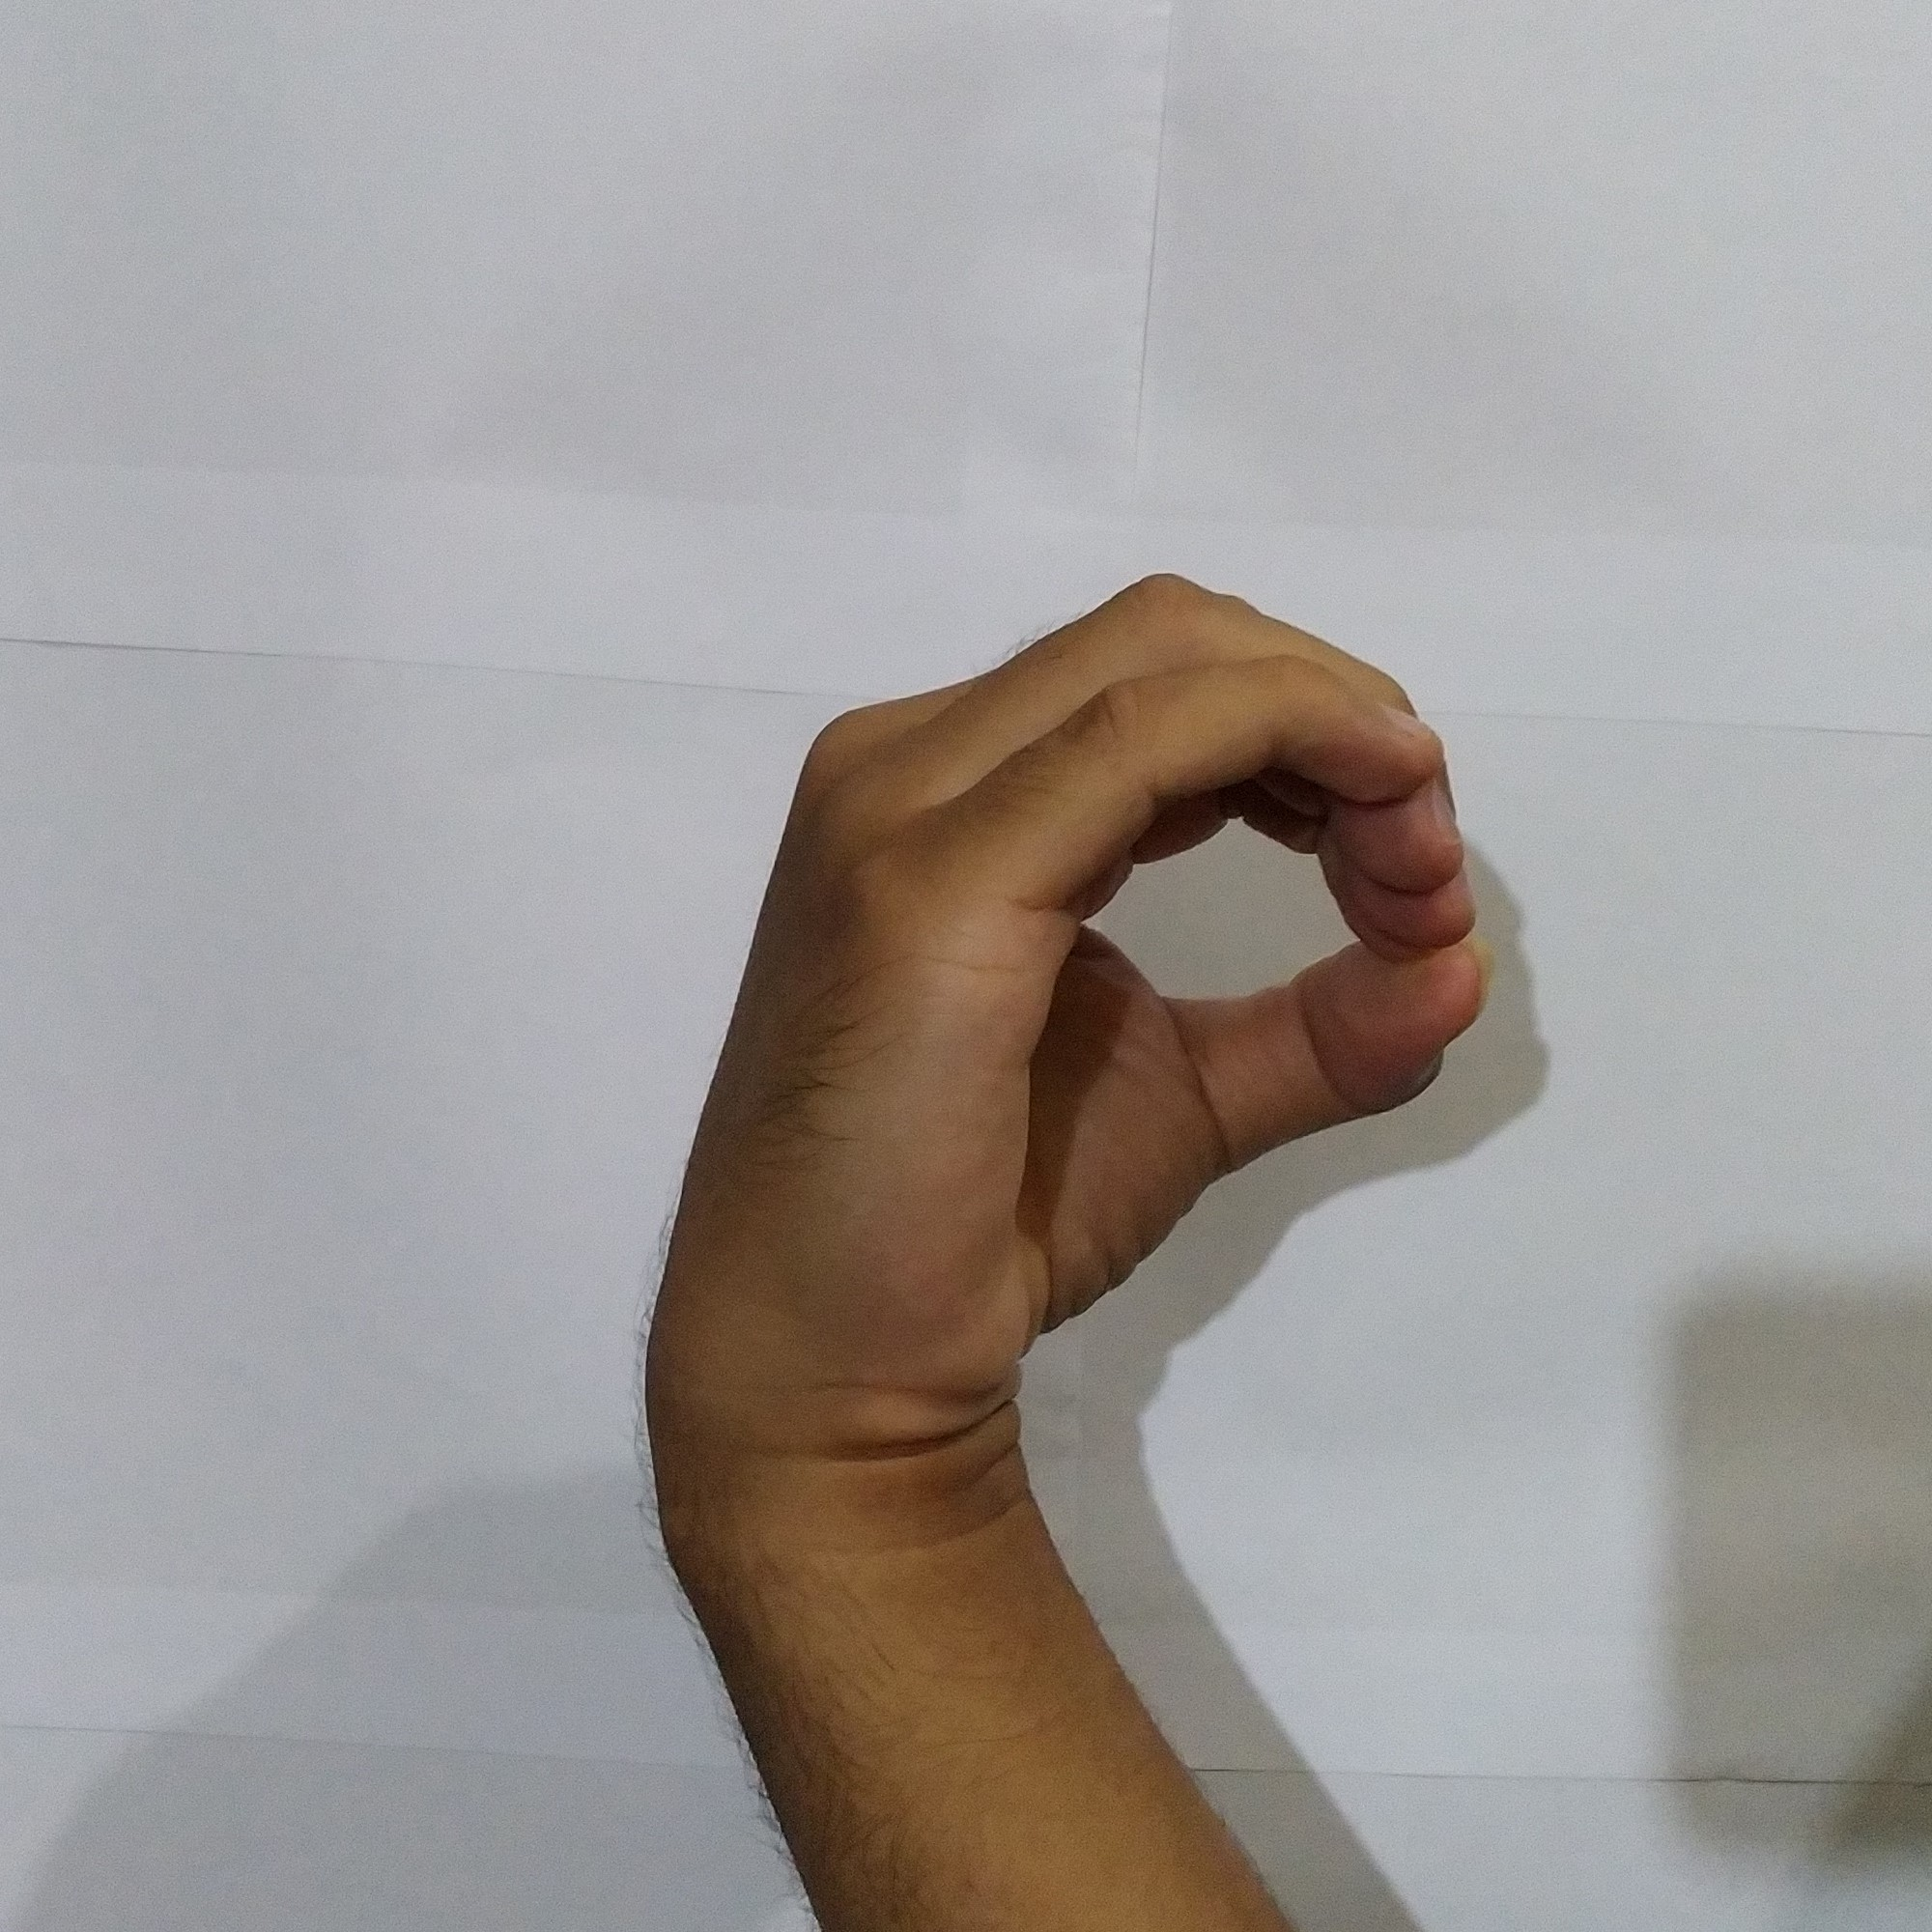O: (637, 552, 1520, 1431)
